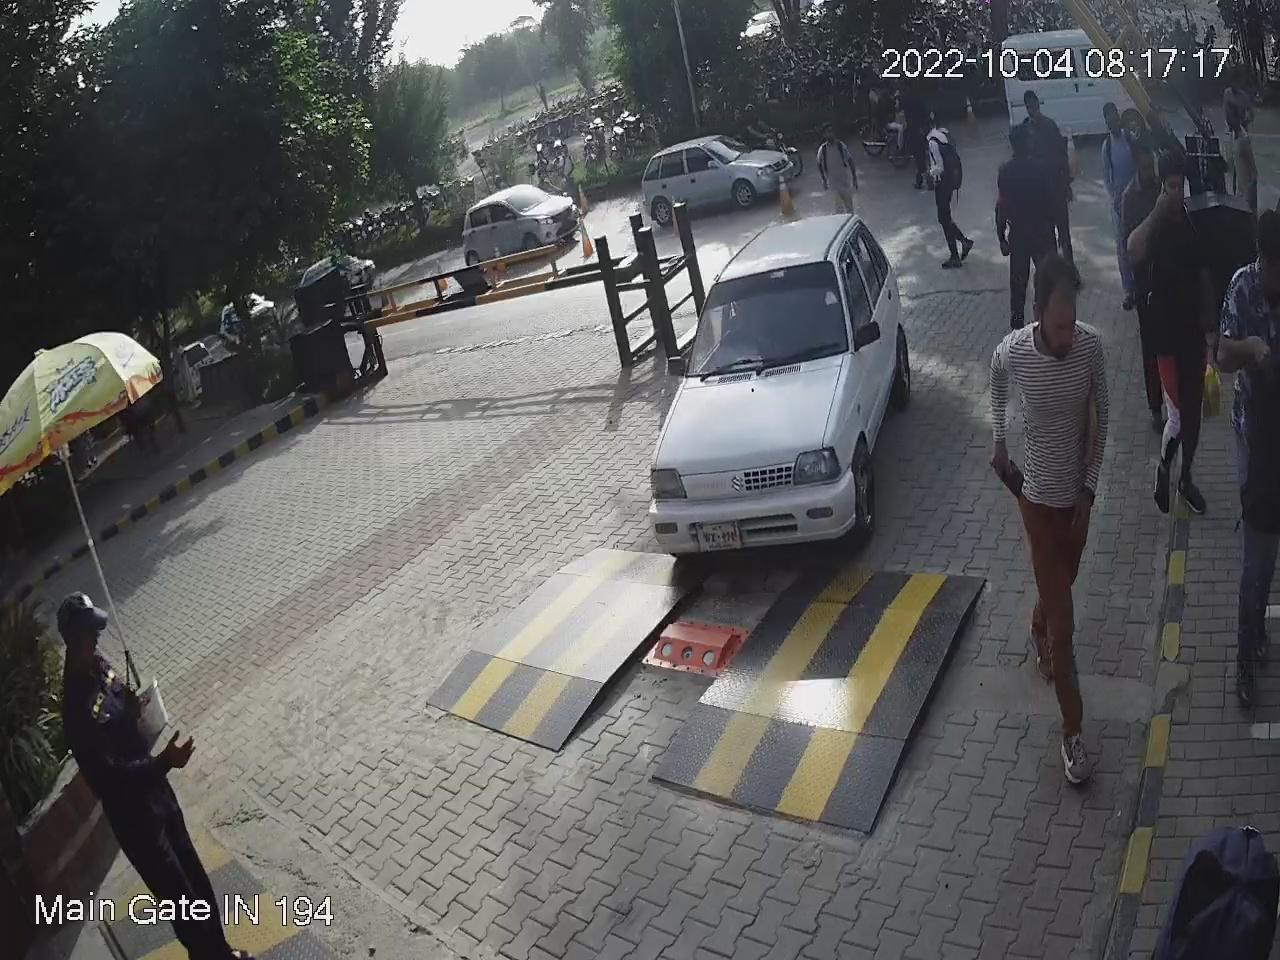windshield: (685, 255, 848, 375)
